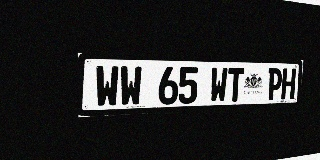5: (179, 67, 198, 104)
6: (158, 66, 179, 105)
H: (281, 68, 296, 100)
P: (267, 68, 283, 100)
T: (227, 67, 244, 102)
W: (95, 65, 119, 108), (120, 66, 142, 107), (210, 67, 228, 103)
